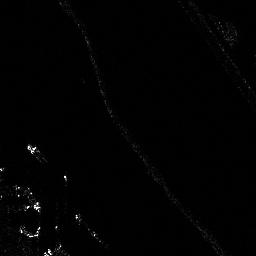ship: (74, 212, 103, 243), (24, 145, 53, 166)
